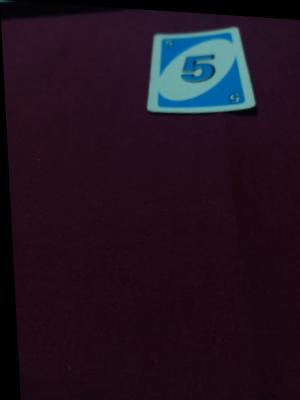blue: (162, 34, 241, 100)
num_5: (225, 89, 239, 102)
